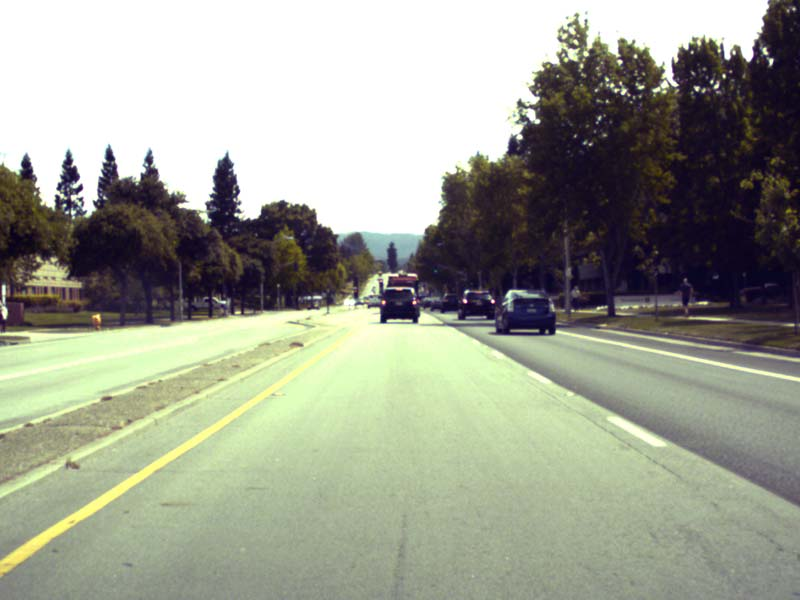Green: (434, 265, 437, 272), (465, 280, 467, 287)
Red: (354, 289, 357, 297), (379, 279, 382, 287)
